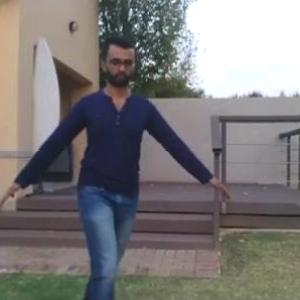land: (1, 41, 213, 299)
